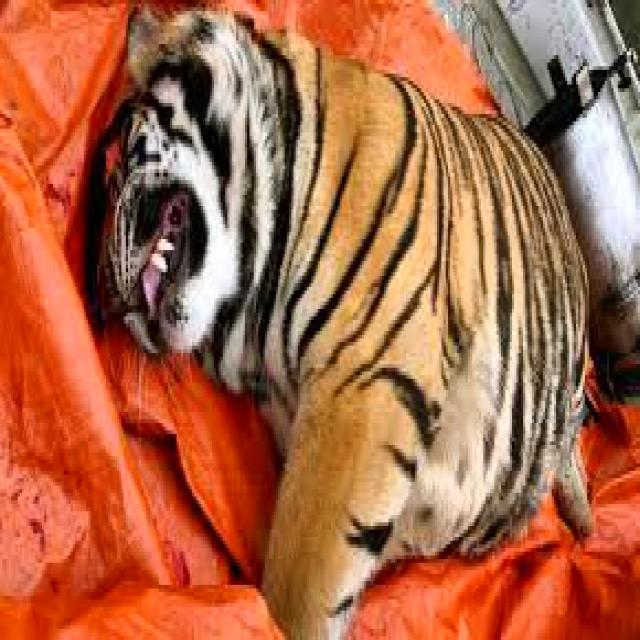tiger: (88, 4, 589, 636)
